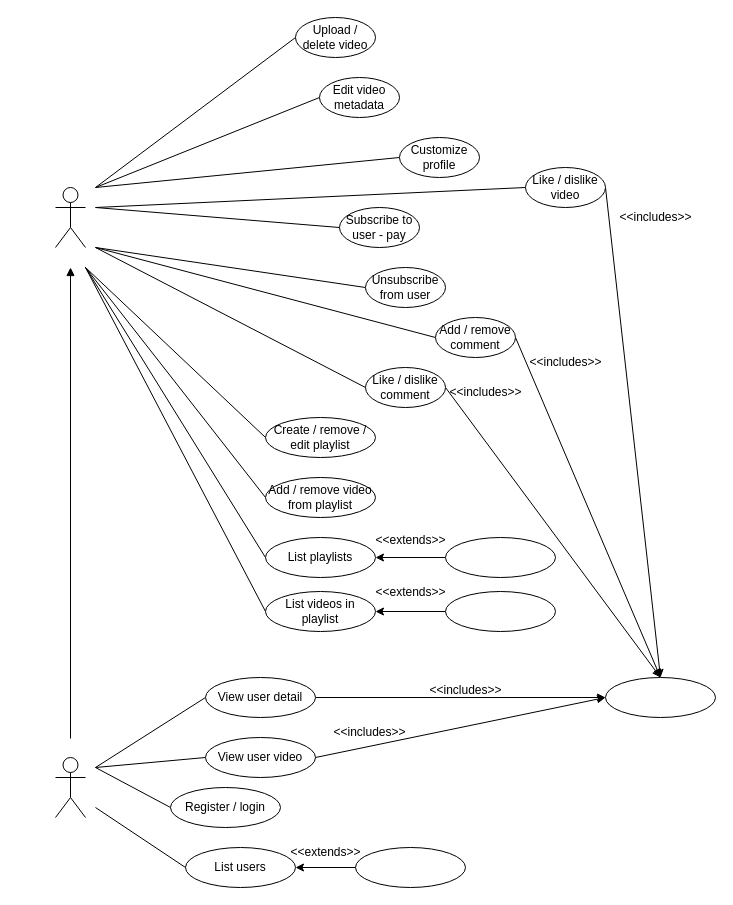
Image size: 733x905. Some labels were removed from this diagram. The box of each missing label's shape, as (x1, y1, x2, y2) in pixels:
Filter playlists: (444, 536, 556, 578)
Filter users: (354, 846, 466, 888)
Filter videos in playlist: (444, 590, 556, 632)
Has access to user: (604, 676, 716, 718)
Non-registered user: (54, 756, 86, 818)
Registered user: (54, 186, 86, 248)
